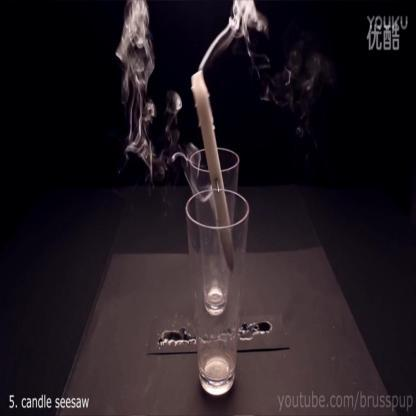smoke: (114, 2, 162, 172), (225, 0, 265, 46)
